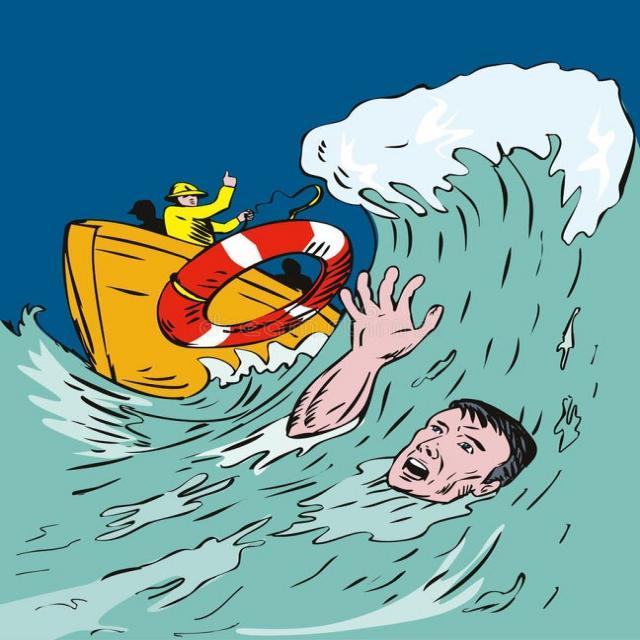Out of Water: (304, 262, 530, 519)
